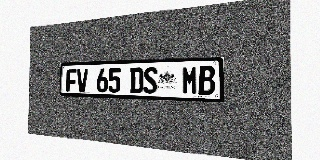5: (108, 68, 121, 93)
6: (96, 68, 108, 93)
B: (198, 65, 215, 95)
D: (130, 67, 143, 94)
F: (66, 69, 77, 92)
M: (182, 66, 198, 95)
S: (143, 67, 157, 94)
V: (77, 69, 88, 92)
